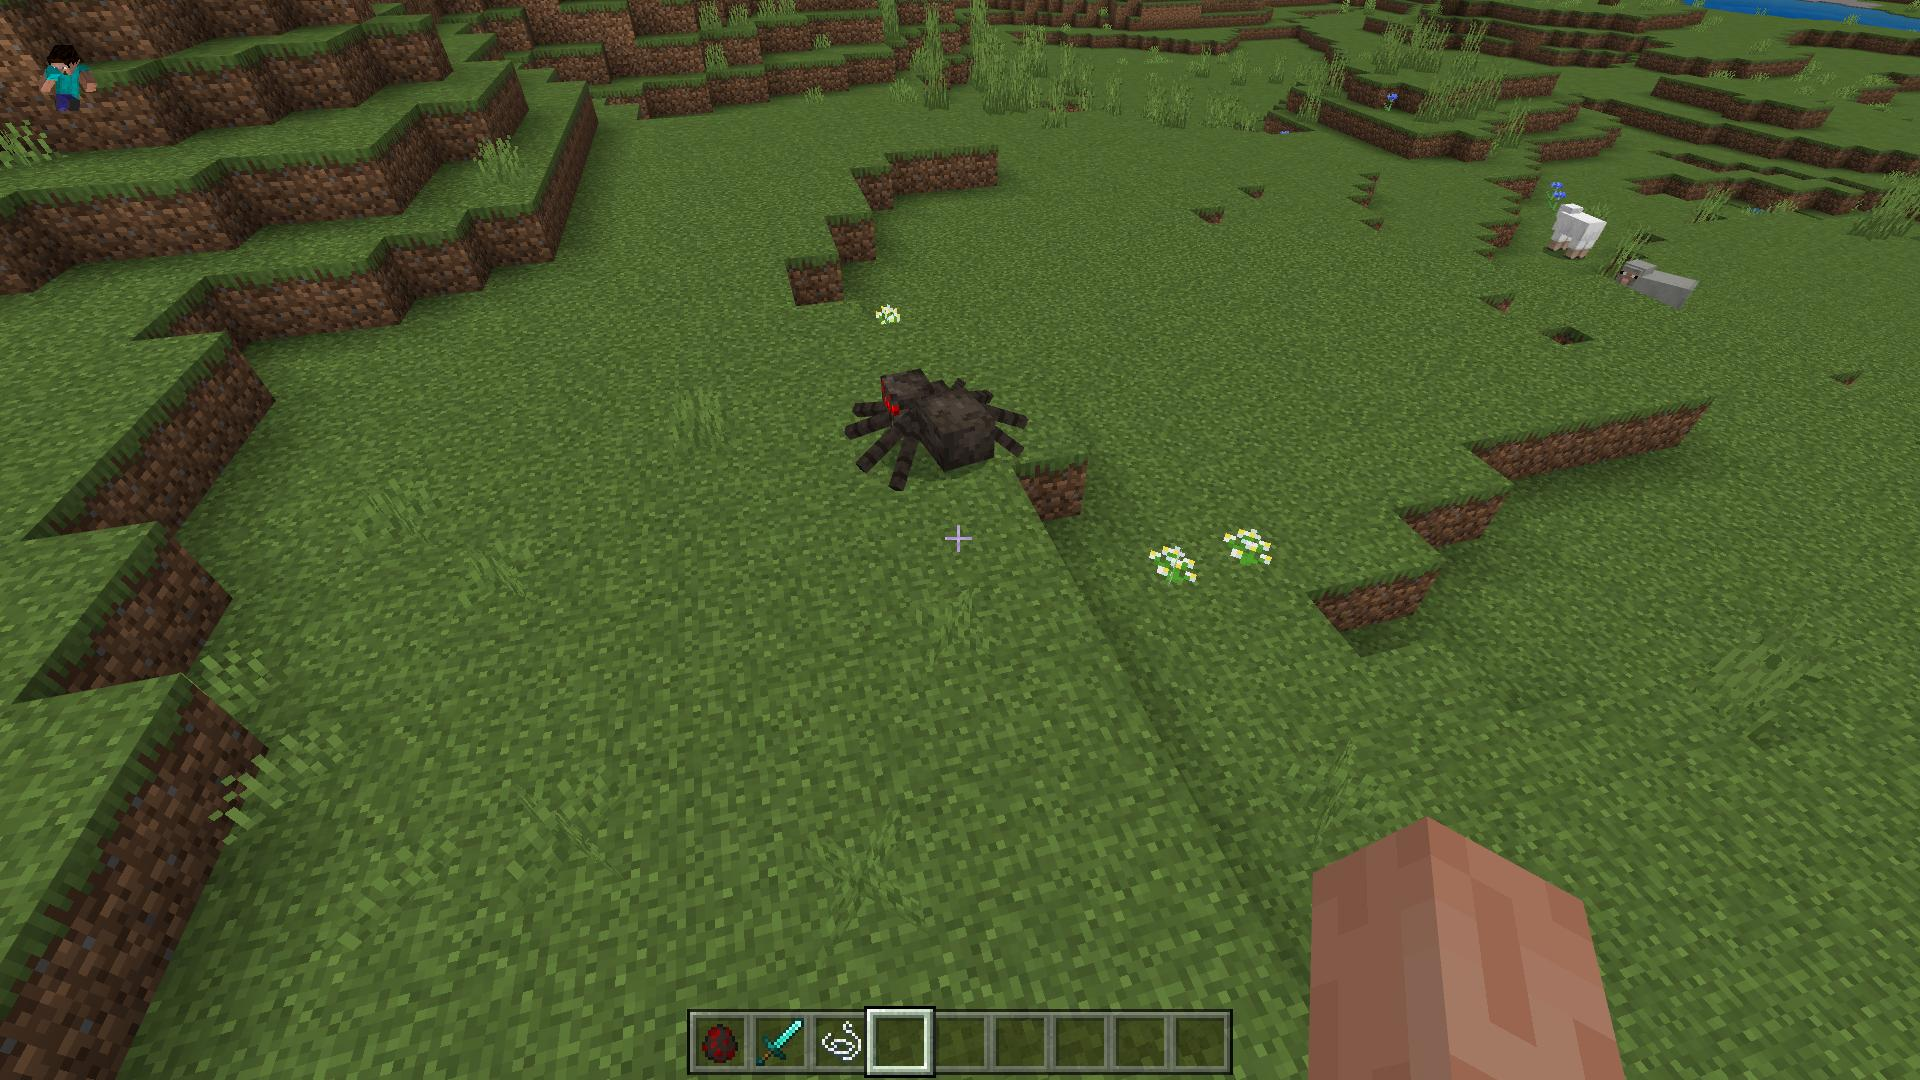spider: (847, 361, 1025, 492)
